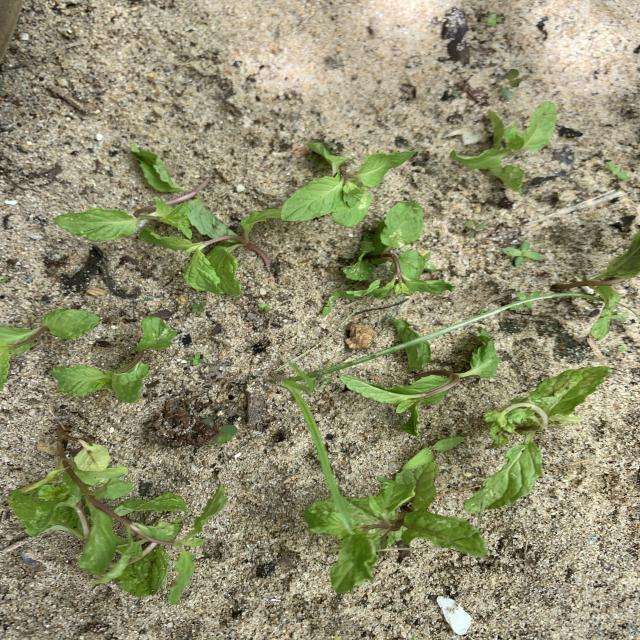crop: (10, 429, 226, 603), (57, 148, 279, 295), (306, 438, 487, 591), (477, 365, 608, 503), (343, 338, 499, 412), (339, 203, 454, 299), (281, 144, 417, 225), (53, 316, 177, 402), (451, 100, 555, 191), (0, 308, 99, 389), (595, 233, 639, 281)
weed: (269, 293, 578, 530), (592, 288, 623, 339), (503, 240, 543, 267), (498, 70, 520, 99), (210, 422, 236, 443), (606, 161, 630, 181), (323, 291, 340, 316), (463, 220, 486, 236), (483, 14, 501, 27), (187, 353, 204, 366), (190, 302, 206, 314), (258, 304, 270, 311)
